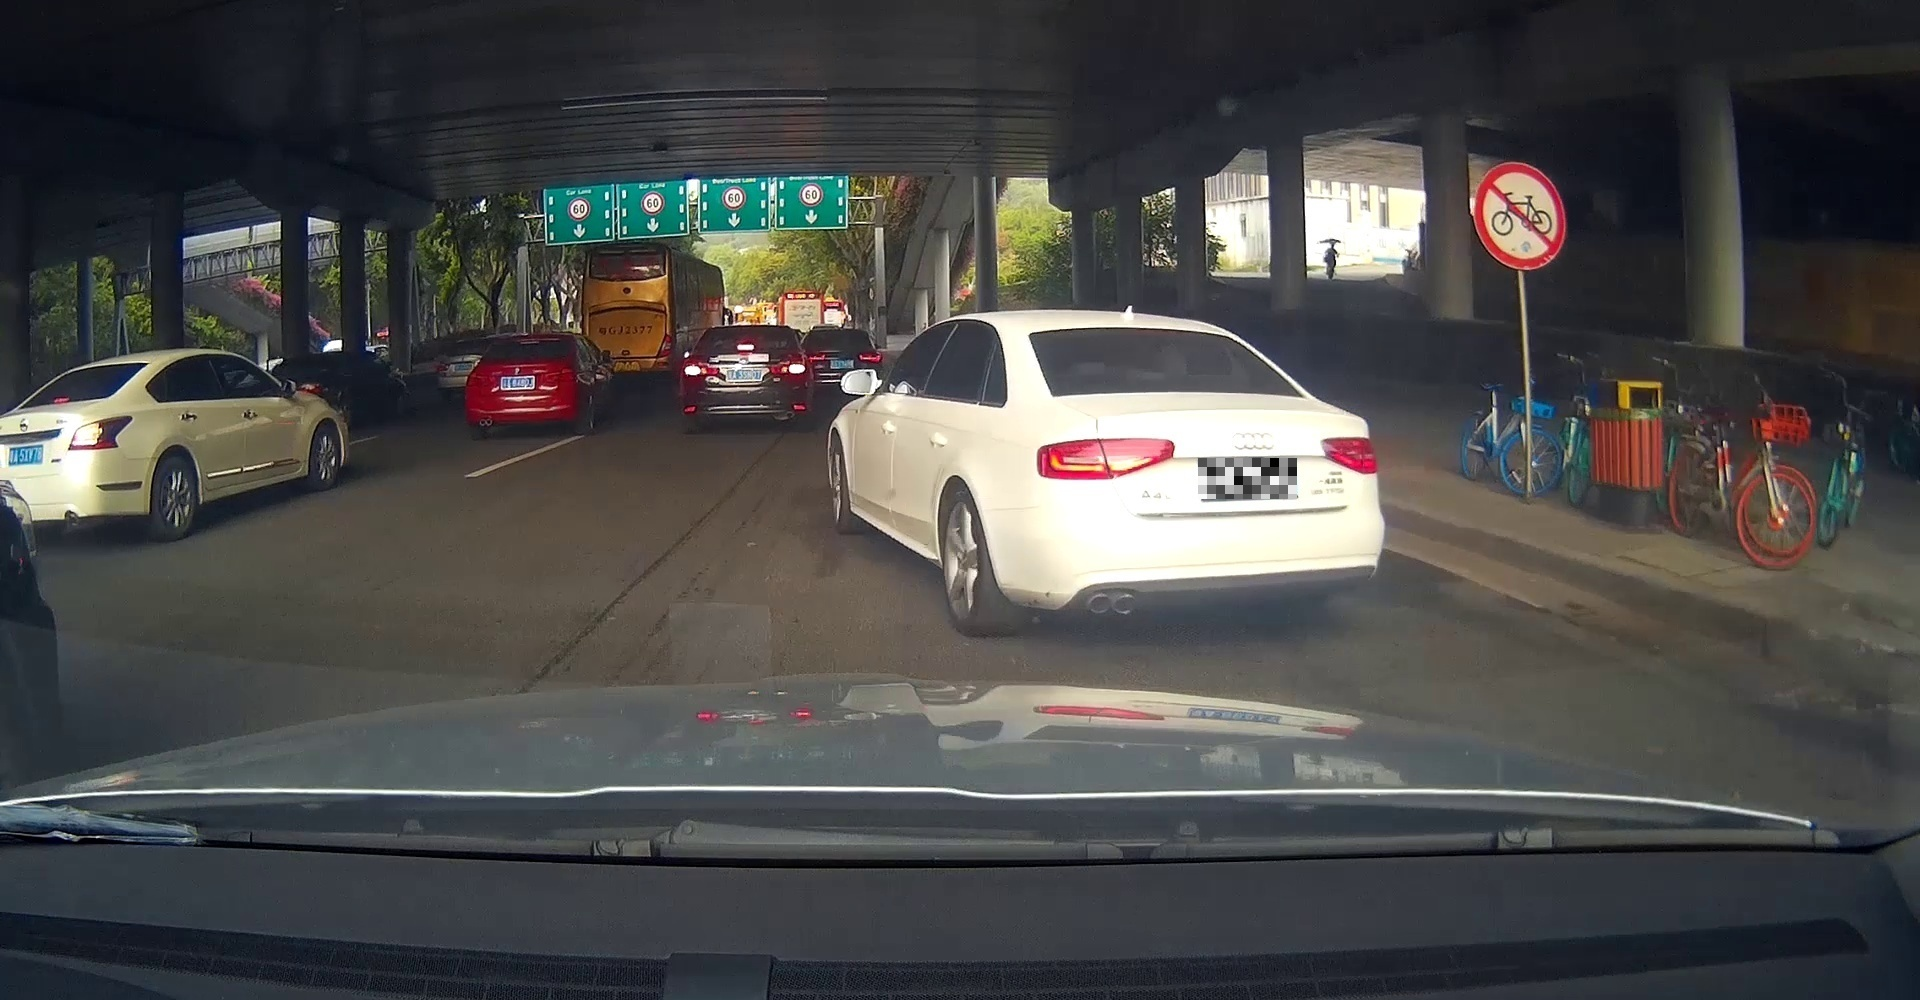L_light: (1036, 437, 1175, 481), (465, 376, 498, 388), (684, 364, 720, 376)
R_light: (1321, 437, 1378, 475), (770, 363, 808, 376), (545, 368, 575, 383)
T_light: (737, 344, 756, 350), (1129, 324, 1156, 327), (521, 341, 540, 344)
day-brake: (681, 325, 813, 433)
day-no: (1018, 310, 1385, 637), (465, 332, 589, 439)
plate_1: (1197, 458, 1297, 499)
